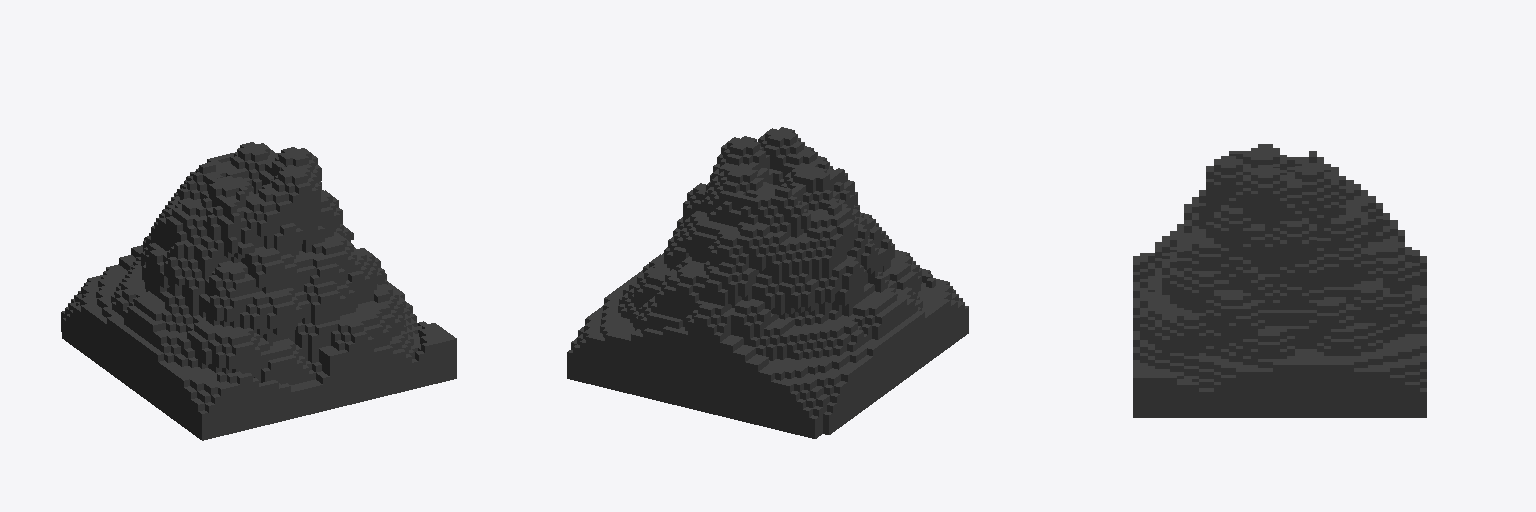
3 renders of one model, left to right at view 1: azimuth 30°, elevation 25°; view 2: azimuth 150°, elevation 25°; view 3: azimuth 270°, elevation 25°, orthographic.
Visible parts, largest first — view 1: object 1; view 2: object 1; view 3: object 1.
Boxes of the visible parts, x1,y1,x2,y2 form: object 1: [61, 142, 456, 440]; object 1: [567, 127, 968, 438]; object 1: [1133, 144, 1426, 417].
Size of the model in its own units: 4 by 3 by 4.
Materials: 1 (1 with a texture image).